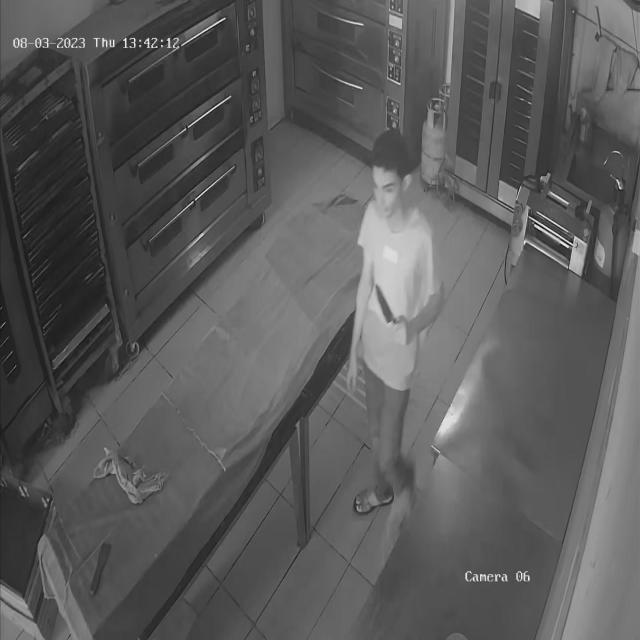Knife: (362, 274, 411, 337)
